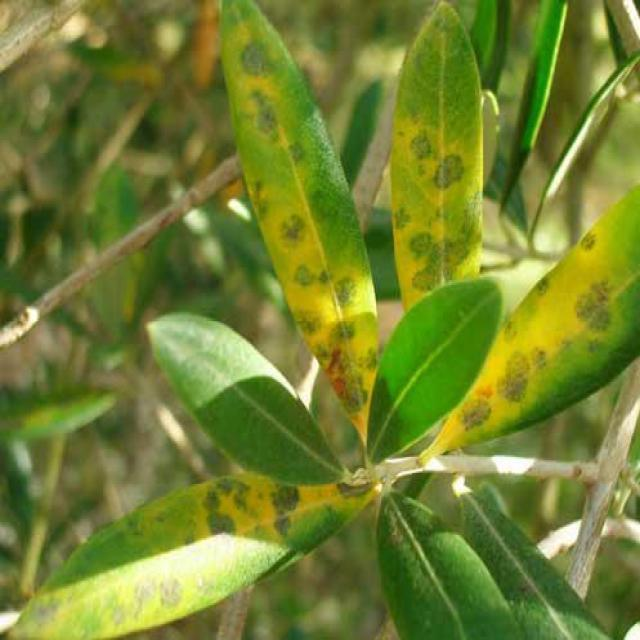OlivePeacockSpot: (222, 0, 378, 443), (20, 472, 378, 638), (424, 184, 638, 453), (392, 3, 481, 309)
